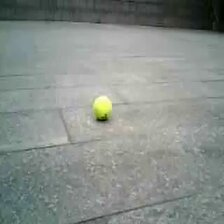tennis: (93, 95, 112, 120)
